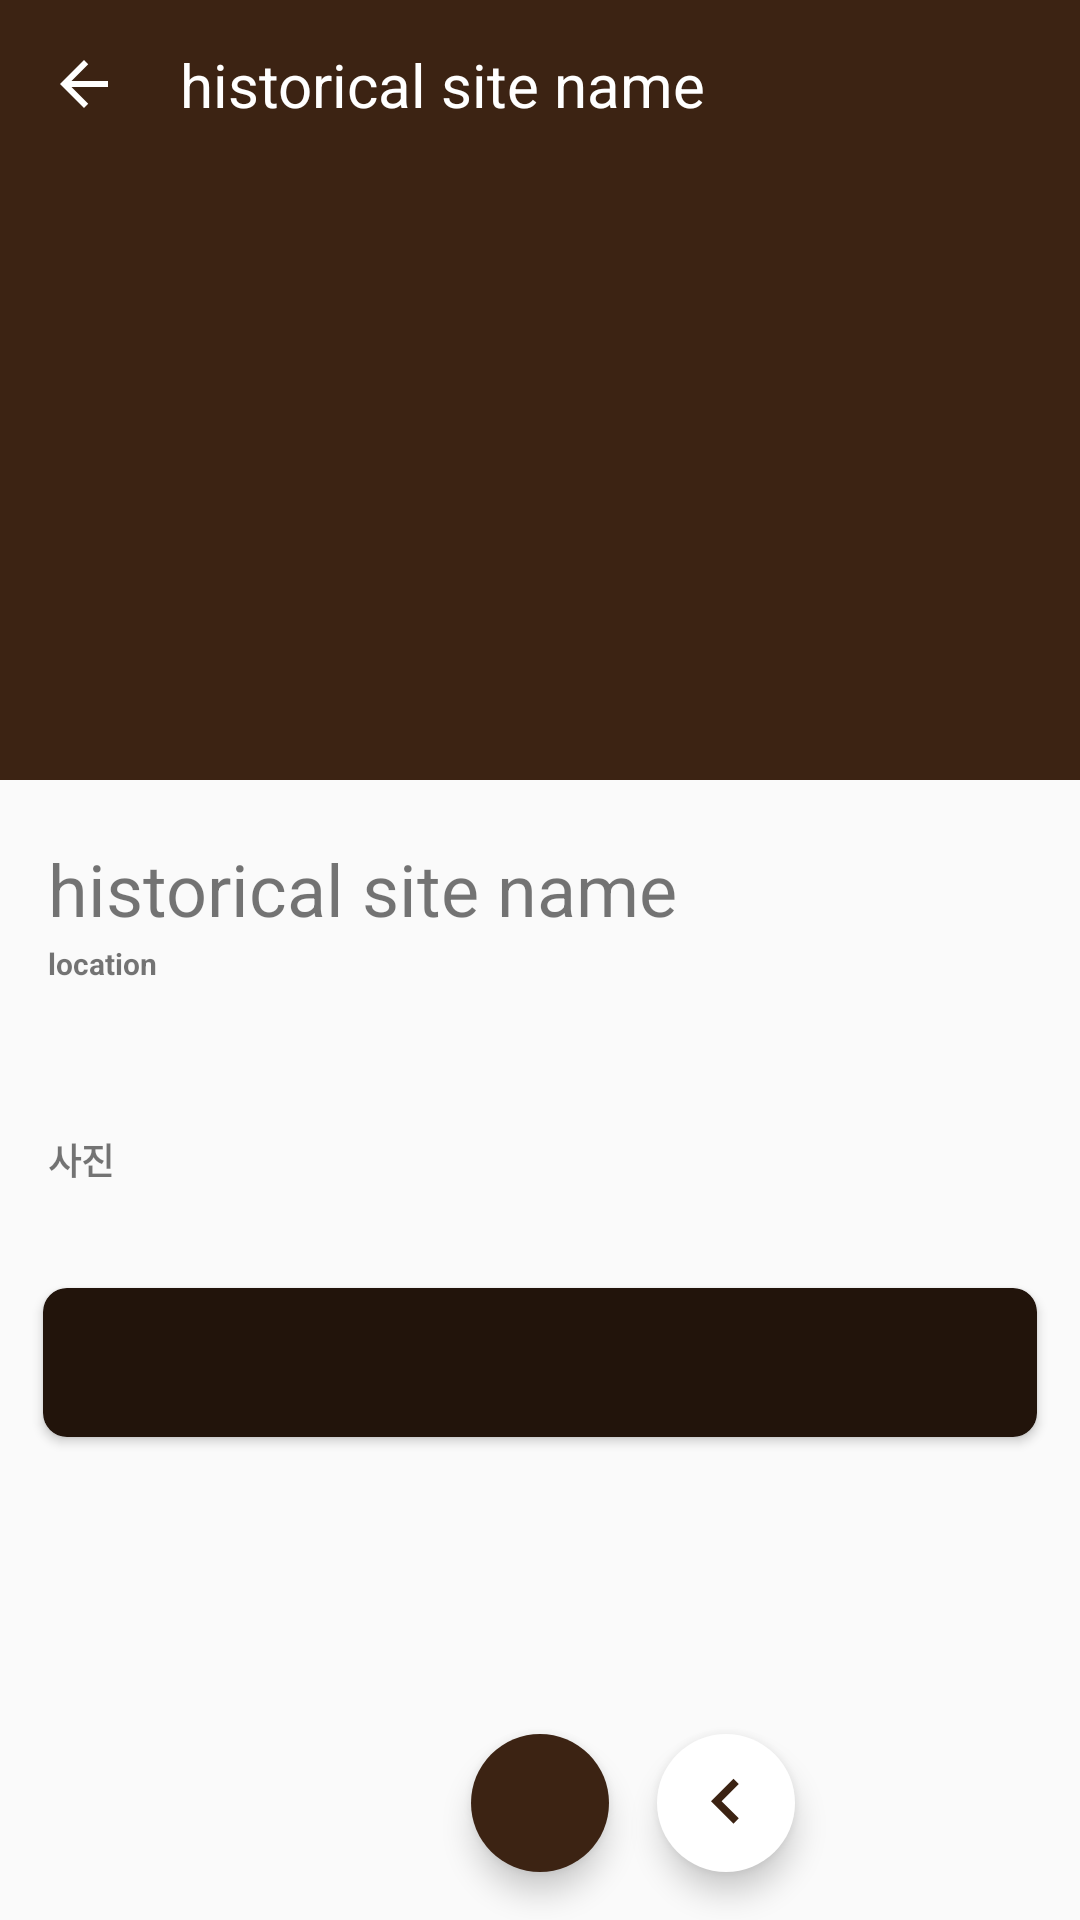

Point at icon controls on the screen. Image size 1080 × 1920, points as (x,y).
back toolbar: (84,84)
